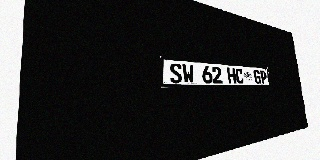plate: (159, 56, 271, 87)
